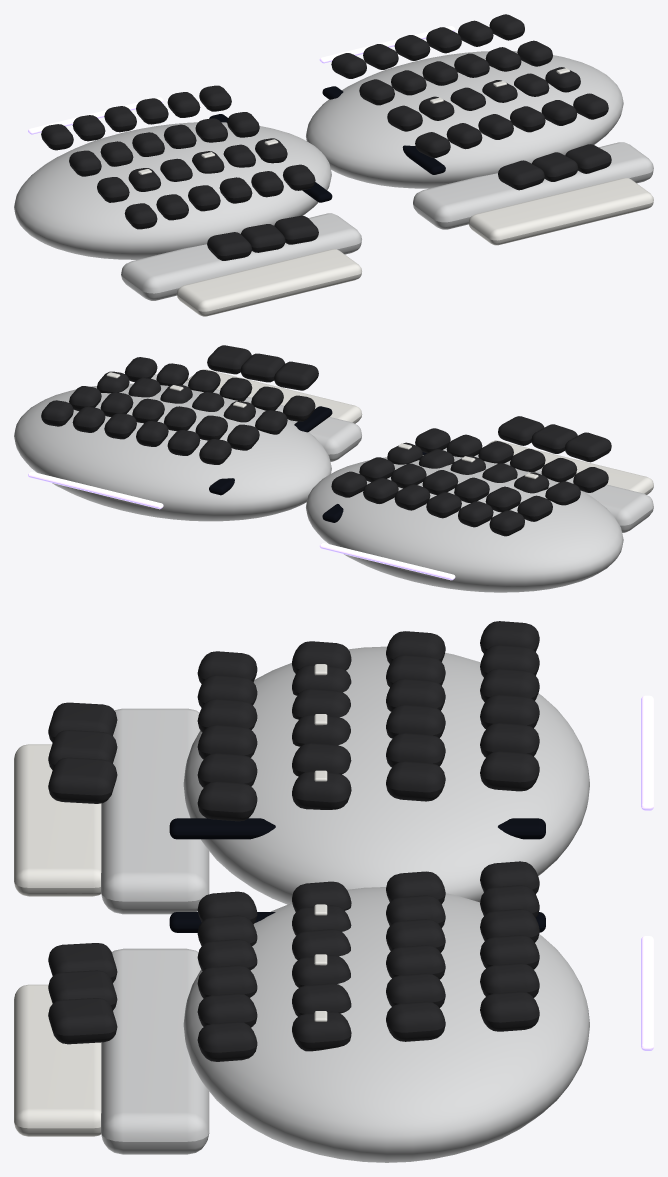
File: p2s_video_so_ong_angry_miao_am_hatsu.glb
The picture shows the model from 3 angles, top to bottom: view 1: azimuth 30°, elevation 25°; view 2: azimuth 150°, elevation 25°; view 3: azimuth 270°, elevation 25°; orthographic projection. The views are drawn at different scales.
Parts seen in each view (by area): view 1: hatsu_left_organic_cnc_body, hatsu_right_organic_cnc_body, hatsu_left_front_chamfer, hatsu_right_front_chamfer, hatsu_right_floating_white_palm_rest, hatsu_left_floating_white_palm_rest, hatsu_right_thumb_key_0, hatsu_left_thumb_key_0, hatsu_left_thumb_key_2, hatsu_left_thumb_key_1, hatsu_right_thumb_key_1, hatsu_right_thumb_key_2 (+52 smaller); view 2: hatsu_right_organic_cnc_body, hatsu_left_organic_cnc_body, hatsu_left_front_chamfer, hatsu_right_front_chamfer, hatsu_left_floating_white_palm_rest, hatsu_right_floating_white_palm_rest, hatsu_left_thumb_key_0, hatsu_right_thumb_key_0, hatsu_left_white_light_strip, hatsu_right_white_light_strip, hatsu_right_thumb_key_1, hatsu_right_thumb_key_2 (+51 smaller); view 3: hatsu_right_organic_cnc_body, hatsu_left_organic_cnc_body, hatsu_right_front_chamfer, hatsu_left_front_chamfer, hatsu_right_floating_white_palm_rest, hatsu_left_floating_white_palm_rest, hatsu_right_inner_black_seam, hatsu_left_thumb_key_2, hatsu_right_thumb_key_2, hatsu_right_key_2_5, hatsu_left_key_3_5, hatsu_left_key_2_5 (+52 smaller).
Boxes of the visible parts, x1=… form: hatsu_left_organic_cnc_body: x1=14, y1=122, x2=331, y2=259; hatsu_right_organic_cnc_body: x1=306, y1=51, x2=623, y2=188; hatsu_left_front_chamfer: x1=121, y1=213, x2=361, y2=300; hatsu_right_front_chamfer: x1=413, y1=142, x2=653, y2=229; hatsu_right_floating_white_palm_rest: x1=468, y1=178, x2=653, y2=245; hatsu_left_floating_white_palm_rest: x1=176, y1=249, x2=361, y2=316; hatsu_right_thumb_key_0: x1=498, y1=160, x2=544, y2=190; hatsu_left_thumb_key_0: x1=207, y1=232, x2=251, y2=260; hatsu_left_thumb_key_2: x1=274, y1=215, x2=318, y2=244; hatsu_left_thumb_key_1: x1=241, y1=224, x2=285, y2=252; hatsu_right_thumb_key_1: x1=532, y1=152, x2=578, y2=181; hatsu_right_thumb_key_2: x1=565, y1=144, x2=611, y2=173; hatsu_right_organic_cnc_body: x1=14, y1=383, x2=331, y2=521; hatsu_left_organic_cnc_body: x1=306, y1=455, x2=623, y2=592; hatsu_left_front_chamfer: x1=443, y1=448, x2=653, y2=532; hatsu_right_front_chamfer: x1=151, y1=374, x2=361, y2=461; hatsu_left_floating_white_palm_rest: x1=487, y1=440, x2=653, y2=494; hatsu_right_floating_white_palm_rest: x1=186, y1=369, x2=362, y2=423; hatsu_left_thumb_key_0: x1=565, y1=432, x2=611, y2=462; hatsu_right_thumb_key_0: x1=274, y1=361, x2=318, y2=390; hatsu_left_white_light_strip: x1=319, y1=543, x2=455, y2=580; hatsu_right_white_light_strip: x1=28, y1=471, x2=163, y2=509; hatsu_right_thumb_key_1: x1=240, y1=353, x2=284, y2=382; hatsu_right_thumb_key_2: x1=207, y1=345, x2=251, y2=374; hatsu_right_organic_cnc_body: x1=183, y1=887, x2=589, y2=1162; hatsu_left_organic_cnc_body: x1=183, y1=646, x2=589, y2=904; hatsu_right_front_chamfer: x1=101, y1=948, x2=209, y2=1154; hatsu_left_front_chamfer: x1=101, y1=708, x2=209, y2=914; hatsu_right_floating_white_palm_rest: x1=14, y1=984, x2=101, y2=1136; hatsu_left_floating_white_palm_rest: x1=14, y1=744, x2=101, y2=896; hatsu_right_inner_black_seam: x1=169, y1=818, x2=545, y2=839; hatsu_left_thumb_key_2: x1=48, y1=757, x2=117, y2=803; hatsu_right_thumb_key_2: x1=48, y1=998, x2=117, y2=1044; hatsu_right_key_2_5: x1=386, y1=1001, x2=445, y2=1041; hatsu_left_key_3_5: x1=480, y1=751, x2=539, y2=791; hatsu_left_key_2_5: x1=386, y1=761, x2=445, y2=801.
Bounding box in the file's own units: 0.347 × 0.0548 × 0.1945.
